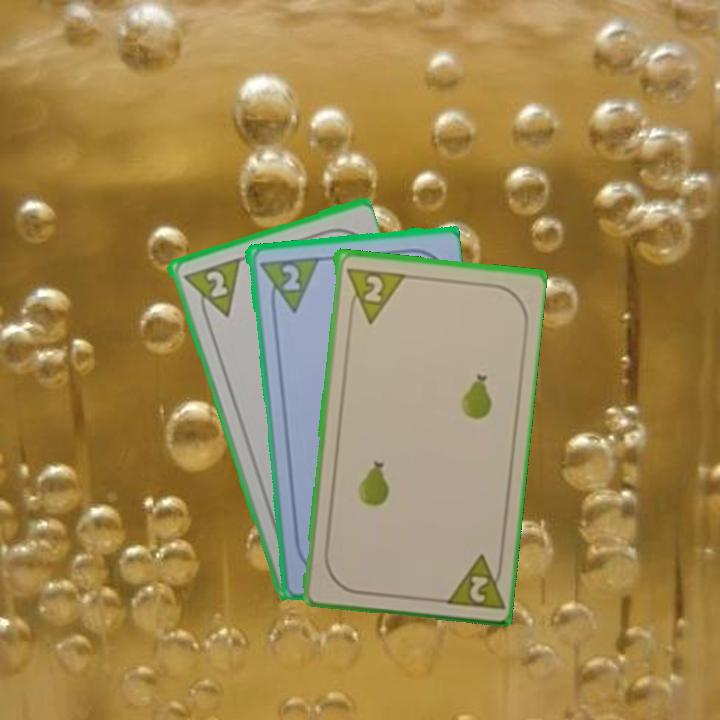2p: (438, 550, 506, 612), (255, 252, 320, 316), (342, 264, 405, 326), (202, 266, 230, 300)
